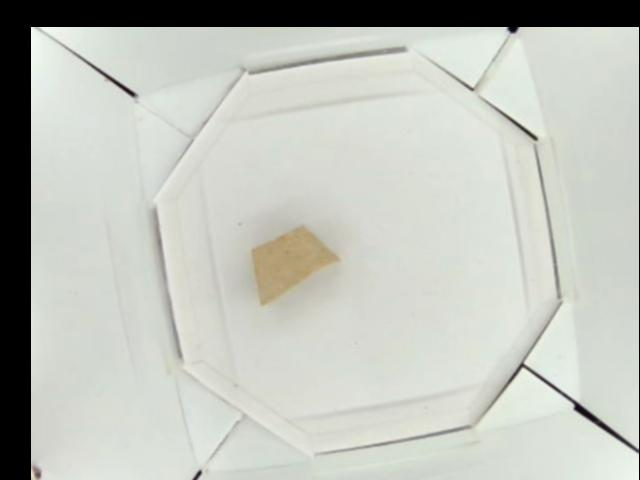China: (252, 225, 343, 301)
